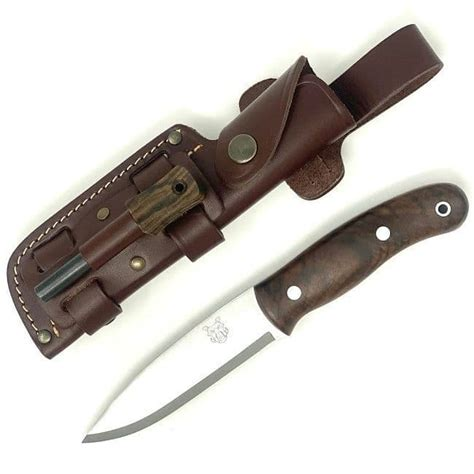knife: (81, 184, 470, 445)
